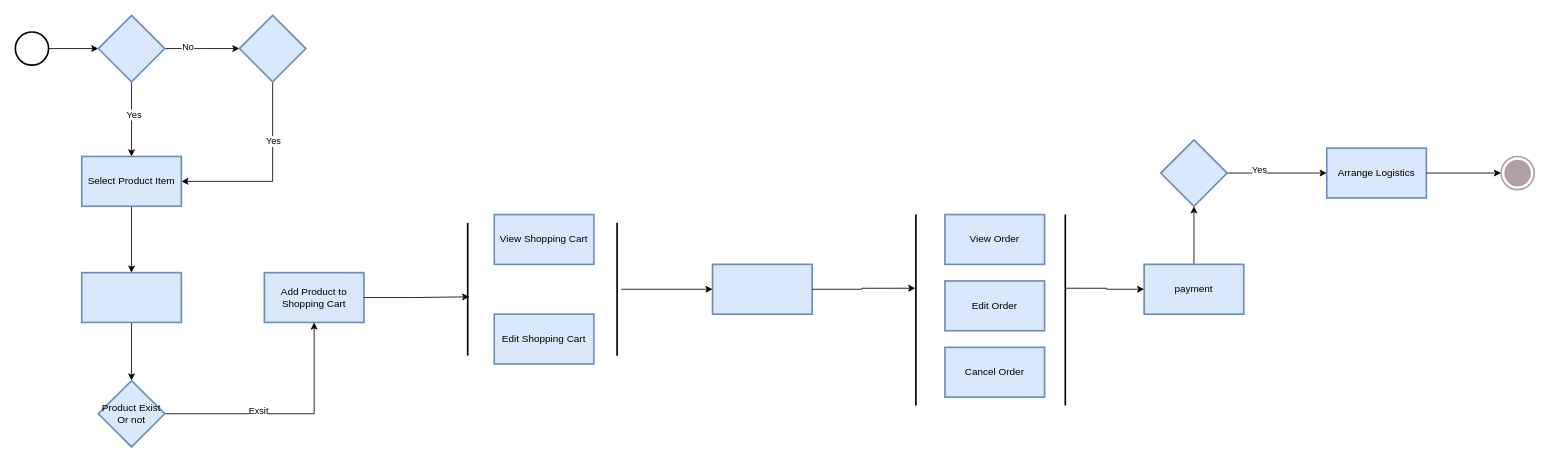
This 1549x461 diagram has some shape labels left out. Each missing label, with the box of its shape:
Create Order: (711, 263, 813, 315)
Display Product Detail: (81, 271, 182, 323)
Login?: (97, 14, 165, 82)
payment successful?: (1160, 139, 1228, 207)
Regist?: (238, 14, 306, 82)
